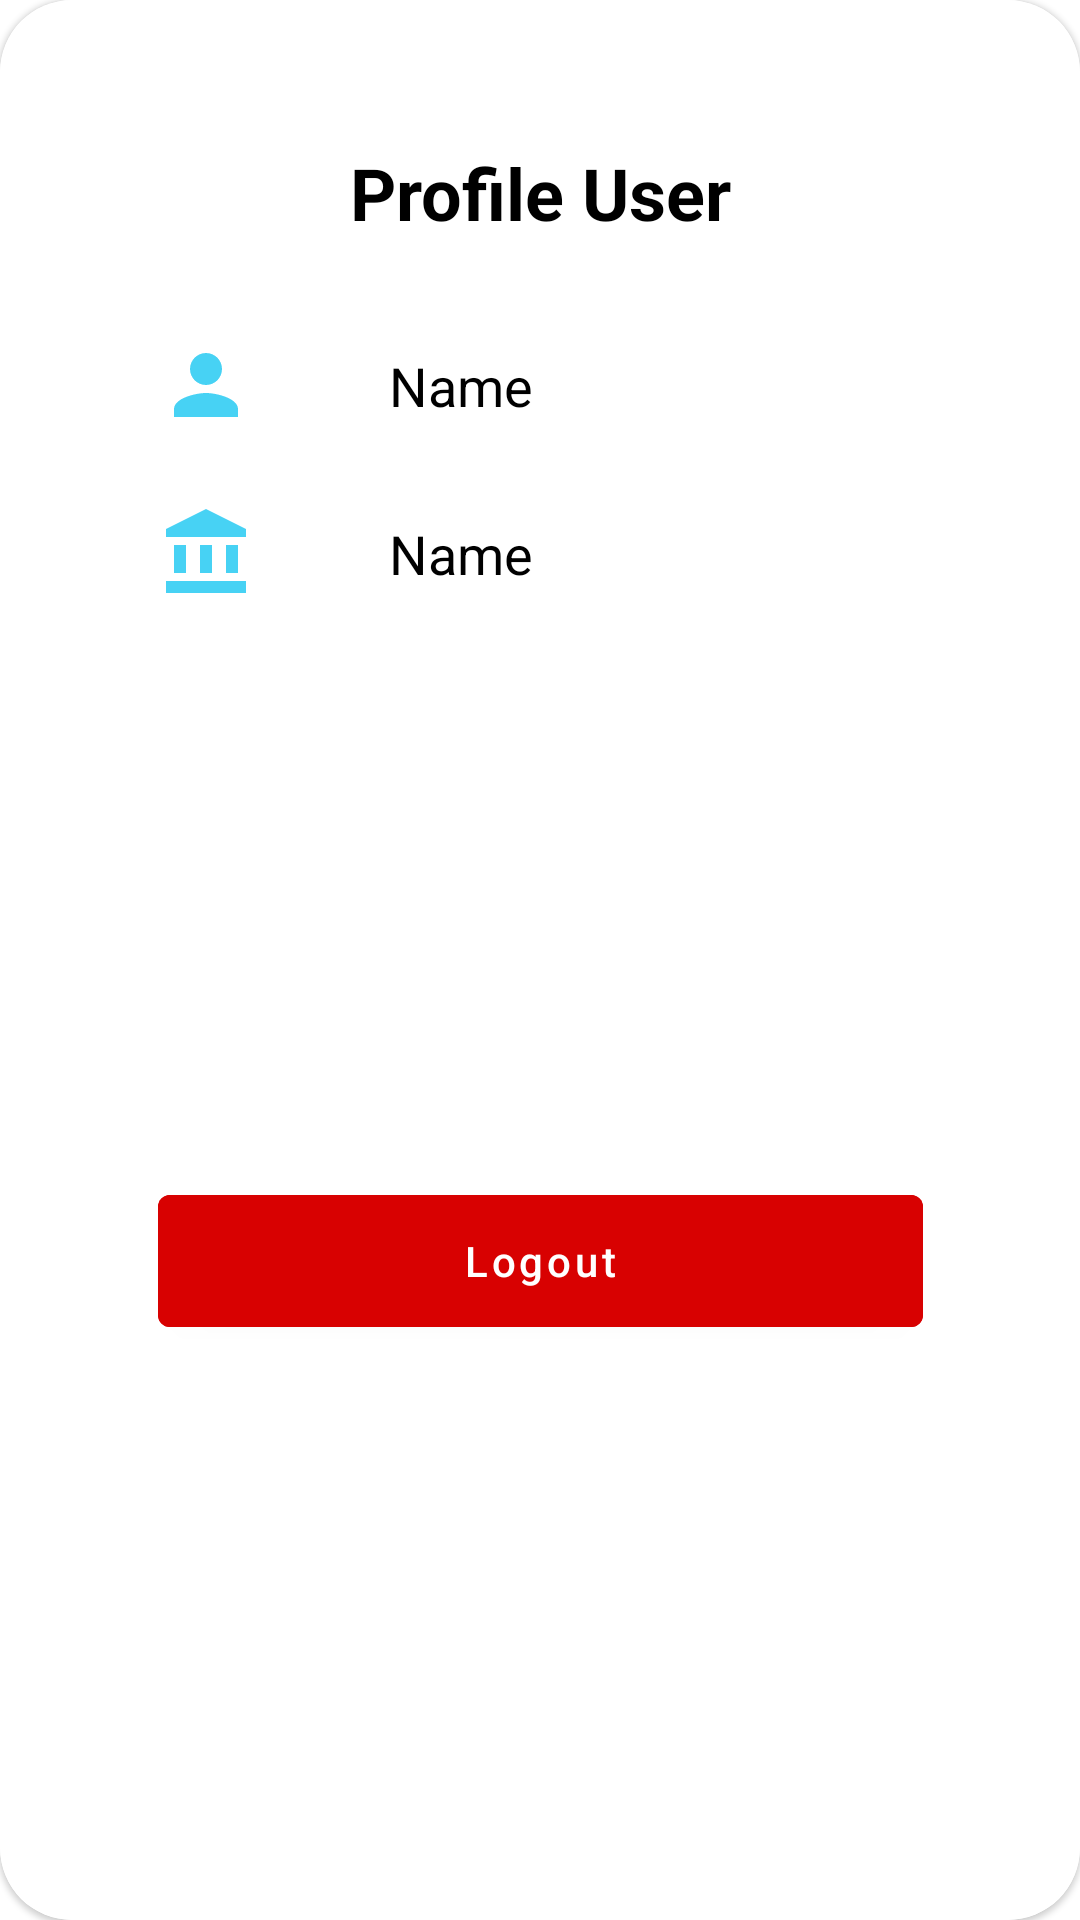

Screen size 1080×1920. Icon name, then its center in pixels as (x,y):
person: (206,385)
